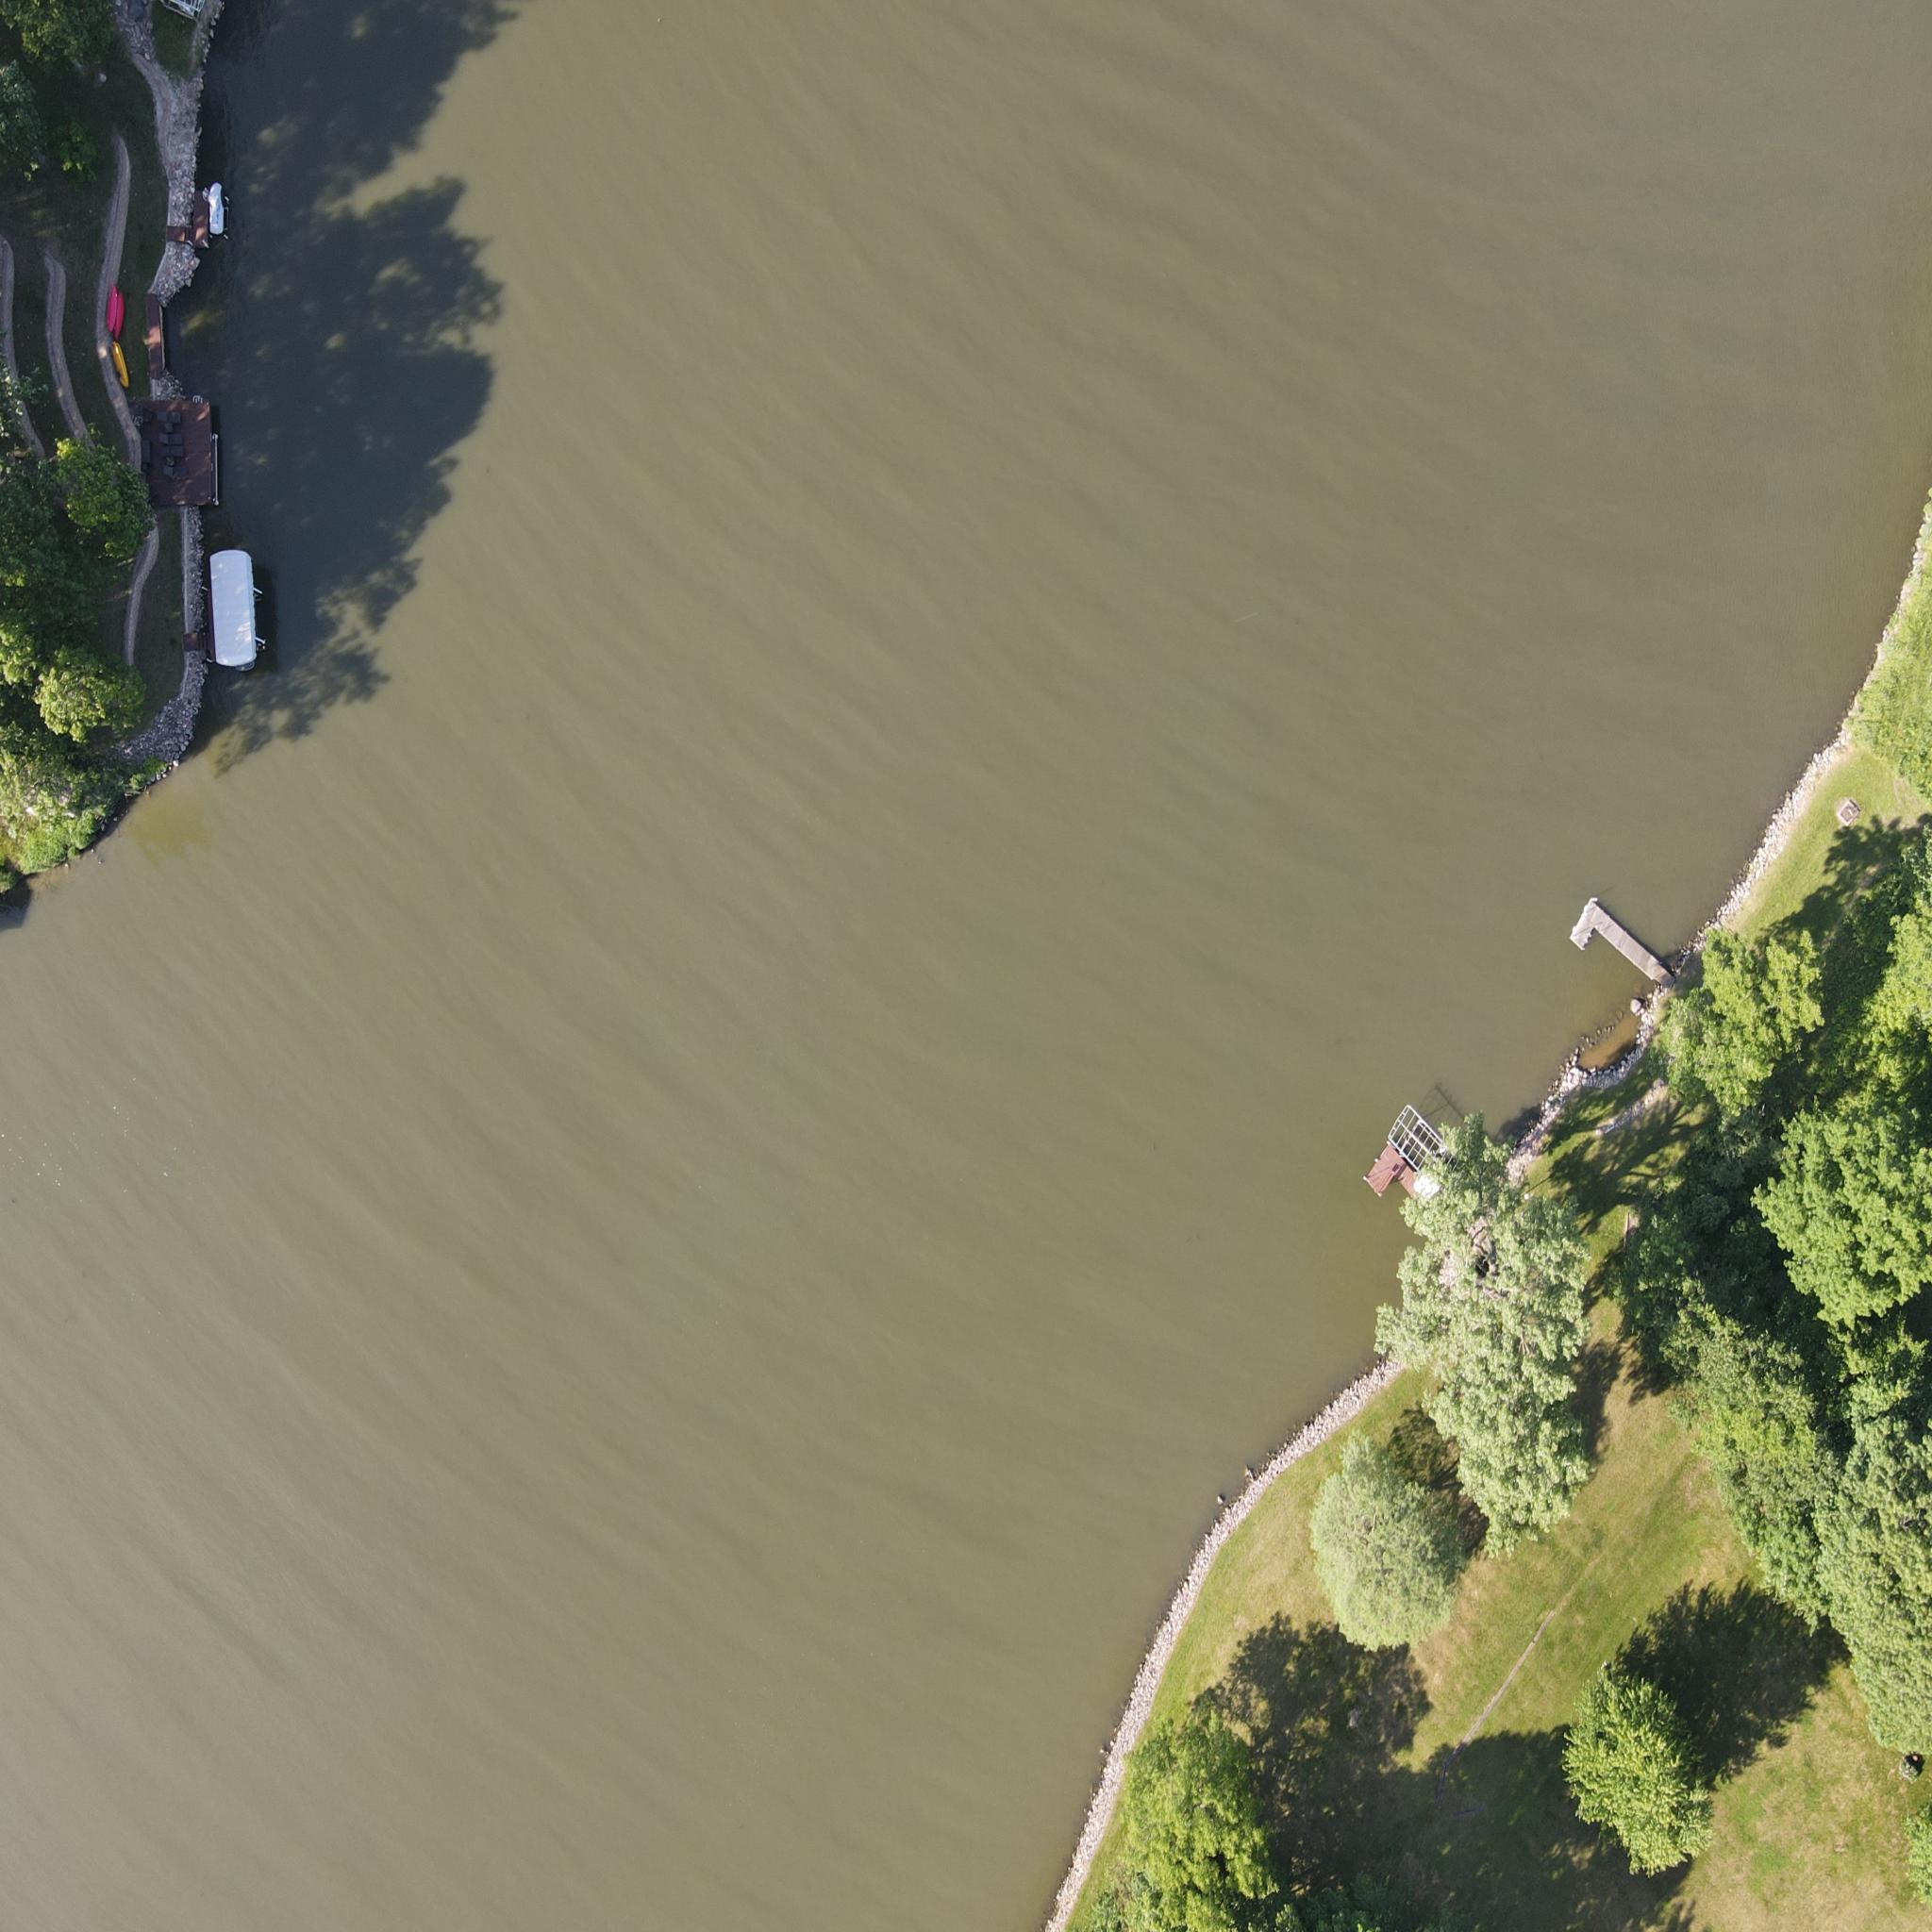dock: (1359, 1141, 1470, 1306), (1562, 892, 1681, 1016), (143, 386, 230, 511), (172, 586, 232, 669), (168, 196, 214, 271)
lift: (1371, 1092, 1474, 1200), (211, 541, 257, 672)
